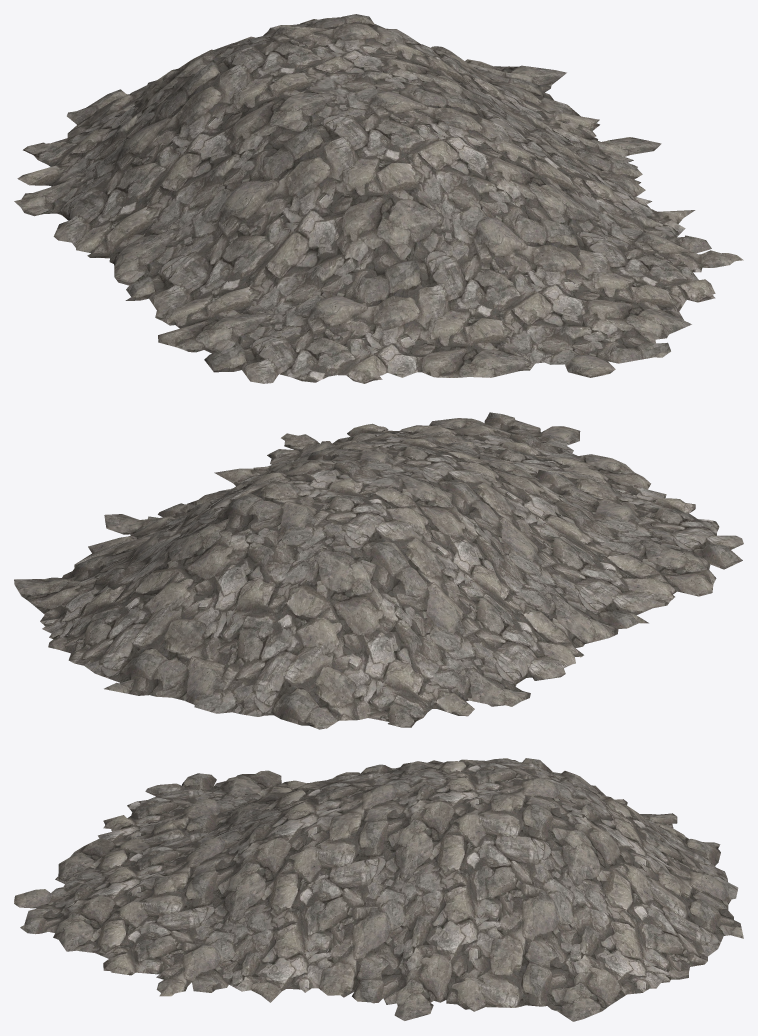
The model's file is conc_pile_18x9.glb.
3 renders of one model, top to bottom at view 1: azimuth 30°, elevation 25°; view 2: azimuth 150°, elevation 25°; view 3: azimuth 270°, elevation 25°, orthographic. The views are drawn at different scales.
Parts seen in each view (by area): view 1: conc_pile_18x9; view 2: conc_pile_18x9; view 3: conc_pile_18x9.
Part boxes in pixels (box(x1,y1,x2,y2)): conc_pile_18x9: box(14, 14, 743, 383); conc_pile_18x9: box(14, 412, 743, 729); conc_pile_18x9: box(14, 758, 743, 1021).
Bounding box in the file's own units: 13.06 × 2.92 × 16.16.
1 material, 1 textured.
